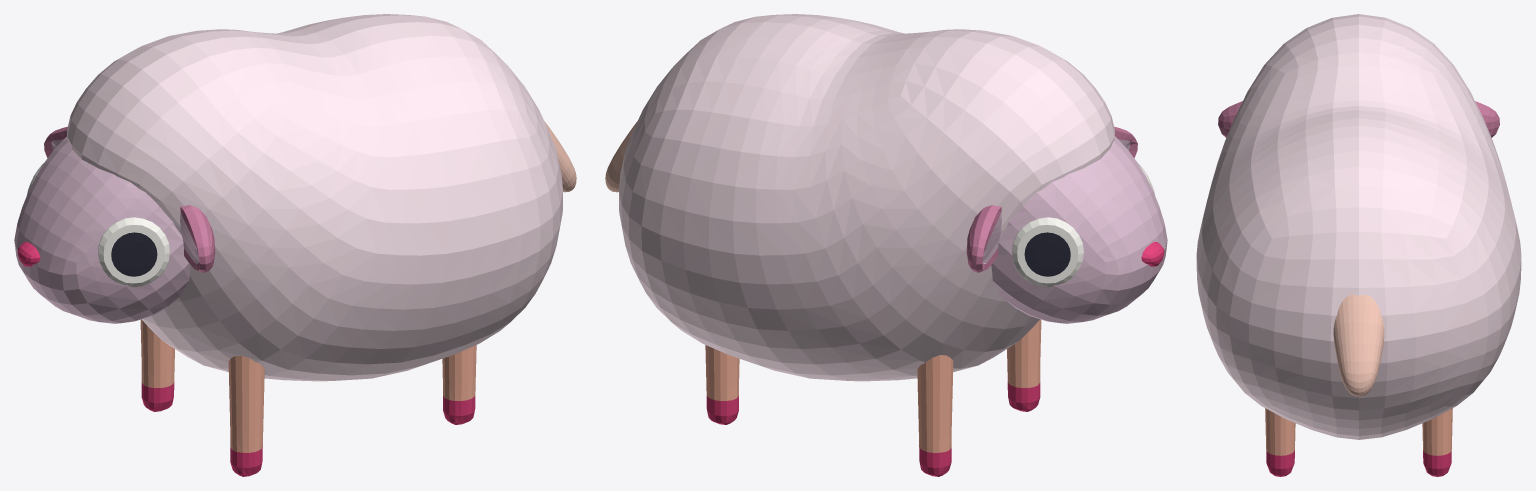
Rendered from Sheep_LOD0.fbx.
3 renders of one model, left to right at view 1: azimuth 30°, elevation 25°; view 2: azimuth 150°, elevation 25°; view 3: azimuth 270°, elevation 25°, orthographic. The views are drawn at different scales.
Visible parts, largest first — view 1: Mesh; view 2: Mesh; view 3: Mesh.
Boxes of the visible parts, x1=… form: Mesh: x1=14, y1=14, x2=576, y2=476; Mesh: x1=605, y1=14, x2=1167, y2=476; Mesh: x1=1196, y1=14, x2=1521, y2=476.
Bounding box in the file's own units: 287 × 199 × 165.
Materials: 1 (1 with a texture image).
